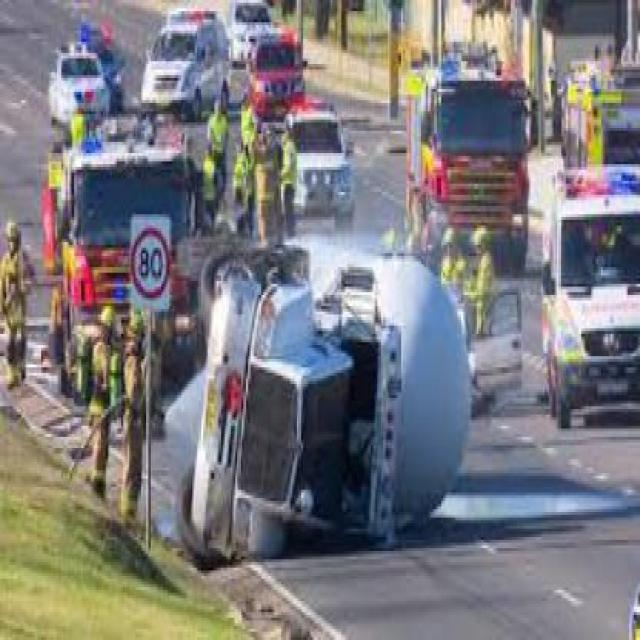accident: (171, 186, 495, 574)
